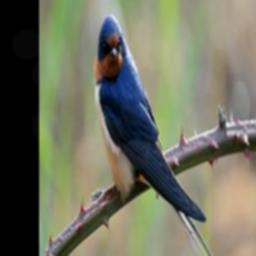Swallow: (92, 12, 227, 256)
